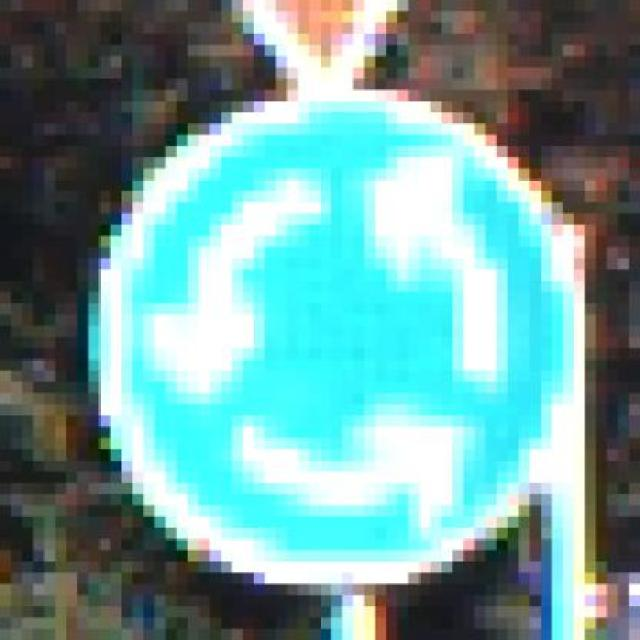Round-About: (78, 78, 596, 618)
